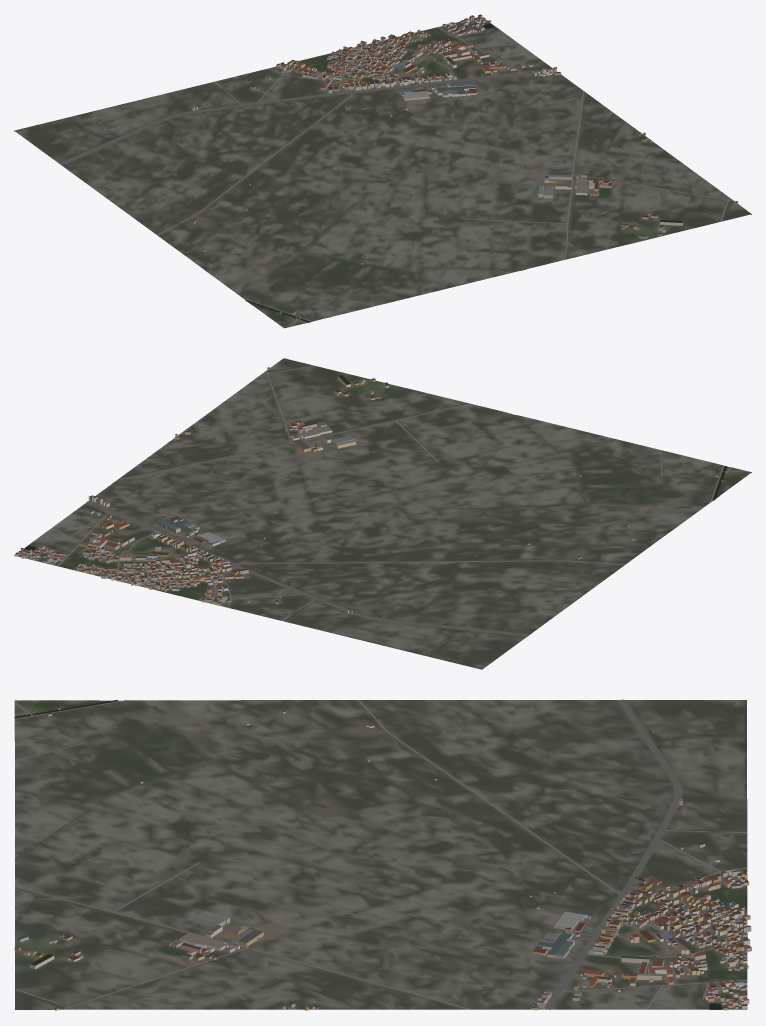
3 views of the same model, one above another, from view 1: azimuth 30°, elevation 25°; view 2: azimuth 150°, elevation 25°; view 3: azimuth 270°, elevation 25° (orthographic). The views are drawn at different scales.
Visible parts, largest first — view 1: ground, buildings, roads; view 2: ground, buildings, roads; view 3: ground, buildings, roads, water.
Part boxes in pixels (x1,y1,x2,y2): ground: (14,17,751,328); buildings: (191,14,738,319); roads: (59,21,734,327); ground: (14,358,751,669); buildings: (15,367,727,614); roads: (21,365,748,636); ground: (14,700,747,1009); buildings: (14,707,751,1010); roads: (14,699,747,1009); water: (14,700,721,1009).
Bounding box in the file's own units: 1410 × 19.3 × 1413.
